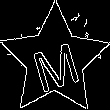M_N: (27, 30, 83, 91)
